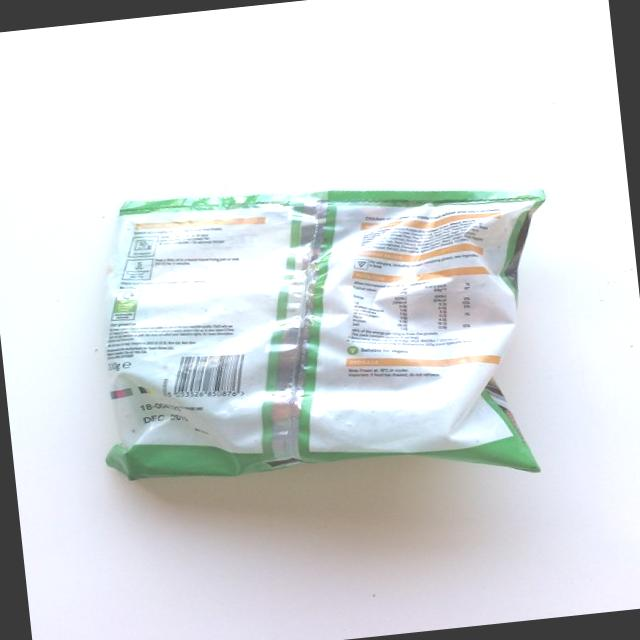Trash: (75, 150, 574, 518)
